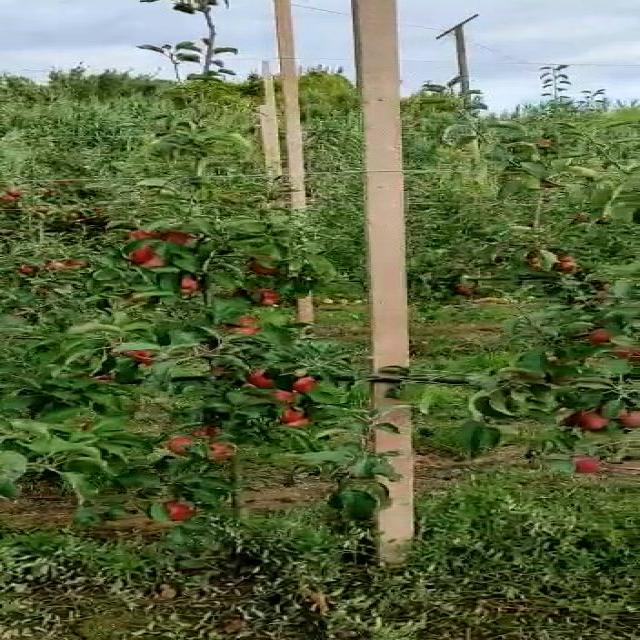100-_ripeness: (580, 405, 616, 433), (165, 434, 202, 459), (580, 329, 624, 348), (262, 408, 311, 425), (253, 256, 287, 279), (118, 245, 151, 268), (226, 316, 256, 340), (127, 351, 169, 366), (162, 500, 194, 519), (127, 227, 162, 244), (291, 375, 324, 393), (249, 369, 280, 388), (620, 405, 640, 433), (207, 441, 238, 458), (258, 291, 282, 306), (180, 279, 202, 294)
